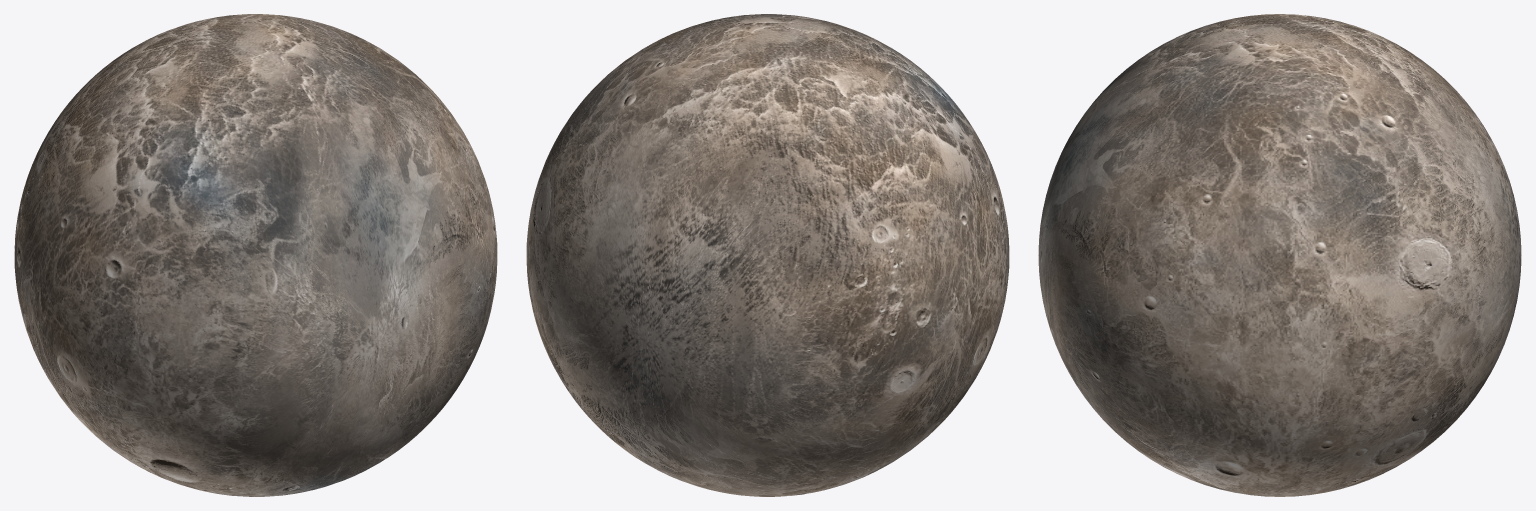
Rendered from moon.obj.
The picture shows the model from 3 angles, left to right: view 1: azimuth 30°, elevation 25°; view 2: azimuth 150°, elevation 25°; view 3: azimuth 270°, elevation 25°; orthographic projection.
Visible parts, largest first — view 1: Sphere001; view 2: Sphere001; view 3: Sphere001.
Boxes of the visible parts, left/top/right/bottom form: Sphere001: left=14, top=14, right=497, bottom=496; Sphere001: left=526, top=14, right=1009, bottom=496; Sphere001: left=1038, top=14, right=1521, bottom=496.
Bounding box in the file's own units: 10.9 × 10.9 × 10.9.
Materials: 1 (1 with a texture image).
